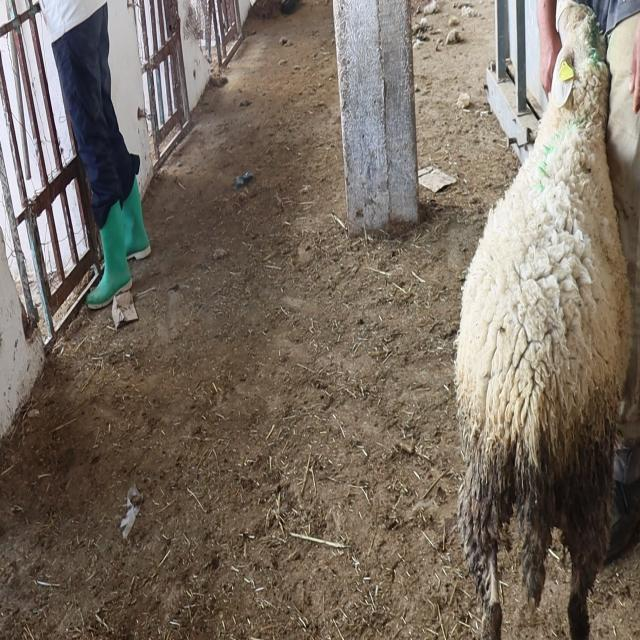Score_4: (454, 0, 631, 639)
